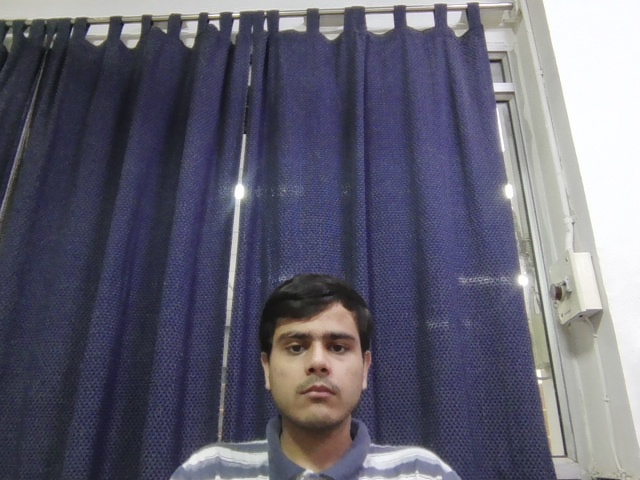face: (257, 276, 379, 426)
